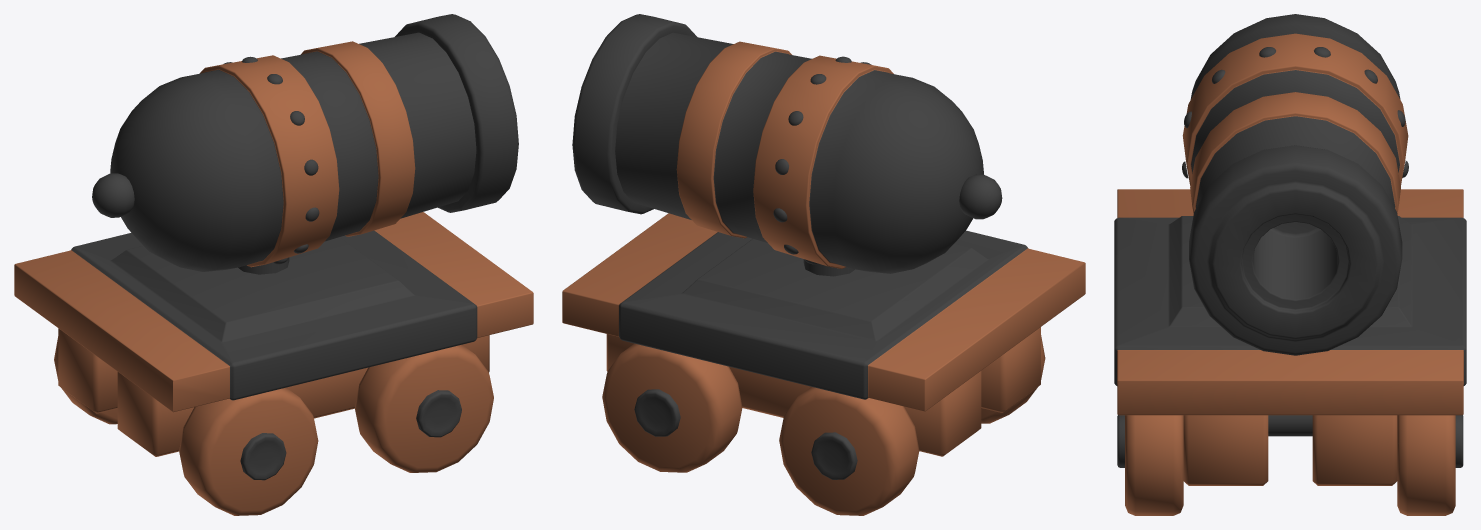
The model's file is PushkaVar2Norm.fbx.
3 renders of one model, left to right at view 1: azimuth 30°, elevation 25°; view 2: azimuth 150°, elevation 25°; view 3: azimuth 270°, elevation 25°, orthographic. The views are drawn at different scales.
Visible parts, largest first — view 1: stvol, platform, kolesa, podPlatform; view 2: stvol, platform, kolesa, podPlatform; view 3: stvol, platform, podPlatform, kolesa.
Part boxes in pixels (box(x1,y1,x2,y2)): stvol: box(92, 14, 518, 274); platform: box(14, 212, 533, 412); kolesa: box(54, 336, 493, 515); podPlatform: box(58, 328, 489, 456); stvol: box(572, 14, 1002, 276); platform: box(562, 213, 1085, 411); kolesa: box(602, 335, 1045, 515); podPlatform: box(606, 327, 1040, 456); stvol: box(1182, 14, 1408, 355); platform: box(1114, 189, 1466, 415); podPlatform: box(1183, 415, 1397, 485); kolesa: box(1117, 415, 1463, 515).
Size of the model in its own units: 353 by 329 by 257.
